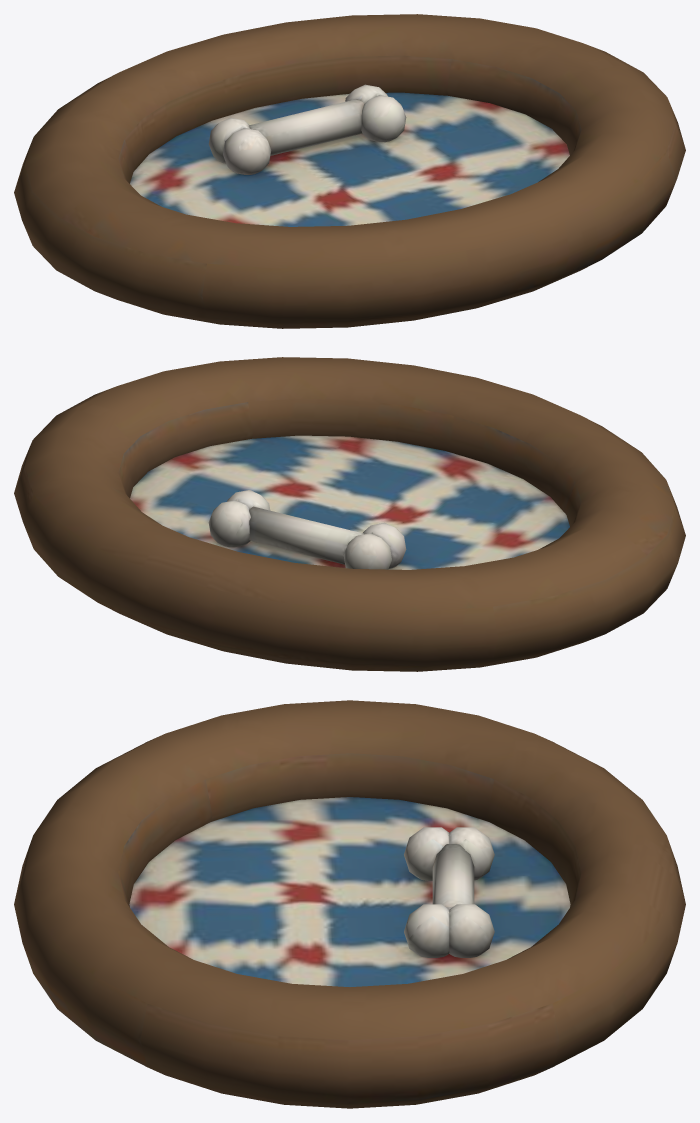
Rendered from home_bed.glb.
3 renders of one model, top to bottom at view 1: azimuth 30°, elevation 25°; view 2: azimuth 150°, elevation 25°; view 3: azimuth 270°, elevation 25°, orthographic. The views are drawn at different scales.
Parts seen in each view (by area): view 1: home_bed; view 2: home_bed; view 3: home_bed.
Boxes of the visible parts, <box> form: home_bed: <box>14,14,685,328</box>; home_bed: <box>14,357,685,671</box>; home_bed: <box>14,700,685,1108</box>.
Bounding box in the file's own units: 1.98 × 0.2749 × 1.62.
Materials: 1 (1 with a texture image).
